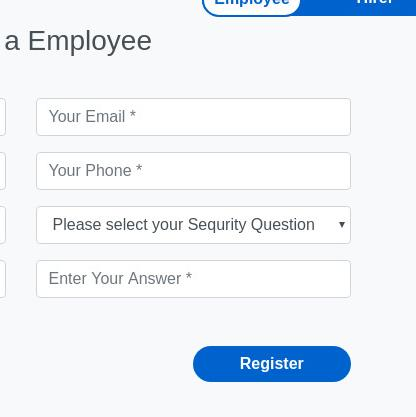button: (191, 343, 353, 387)
field: (33, 202, 351, 245), (35, 96, 353, 138), (33, 149, 352, 190), (35, 259, 352, 298)
